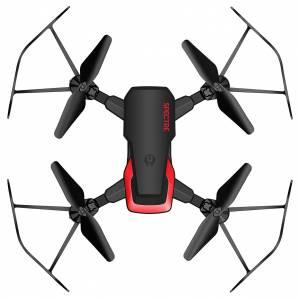drone: (5, 11, 297, 297)
